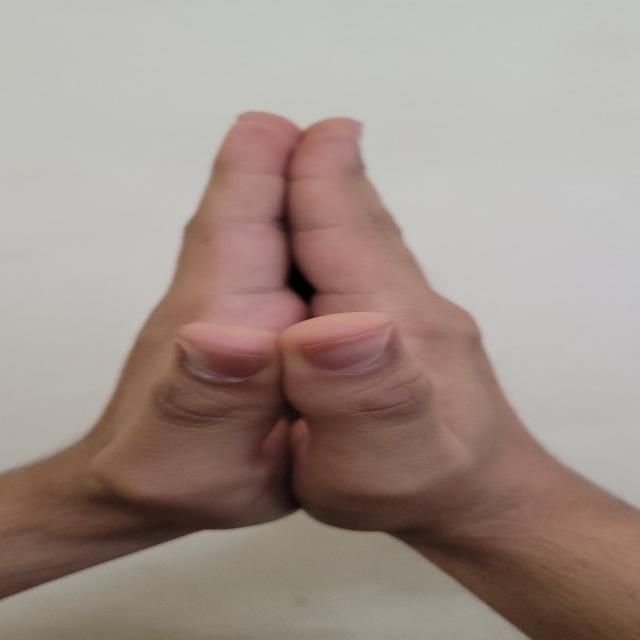Thank You: (54, 106, 535, 594)
